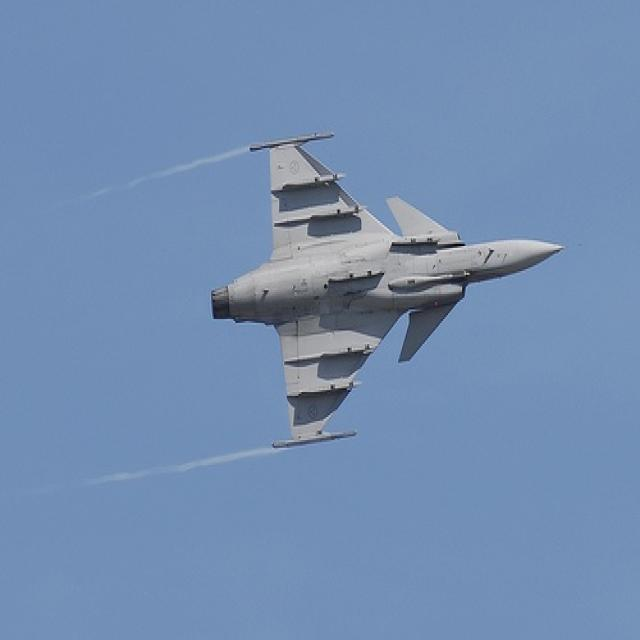aeroplane: (211, 130, 566, 448)
